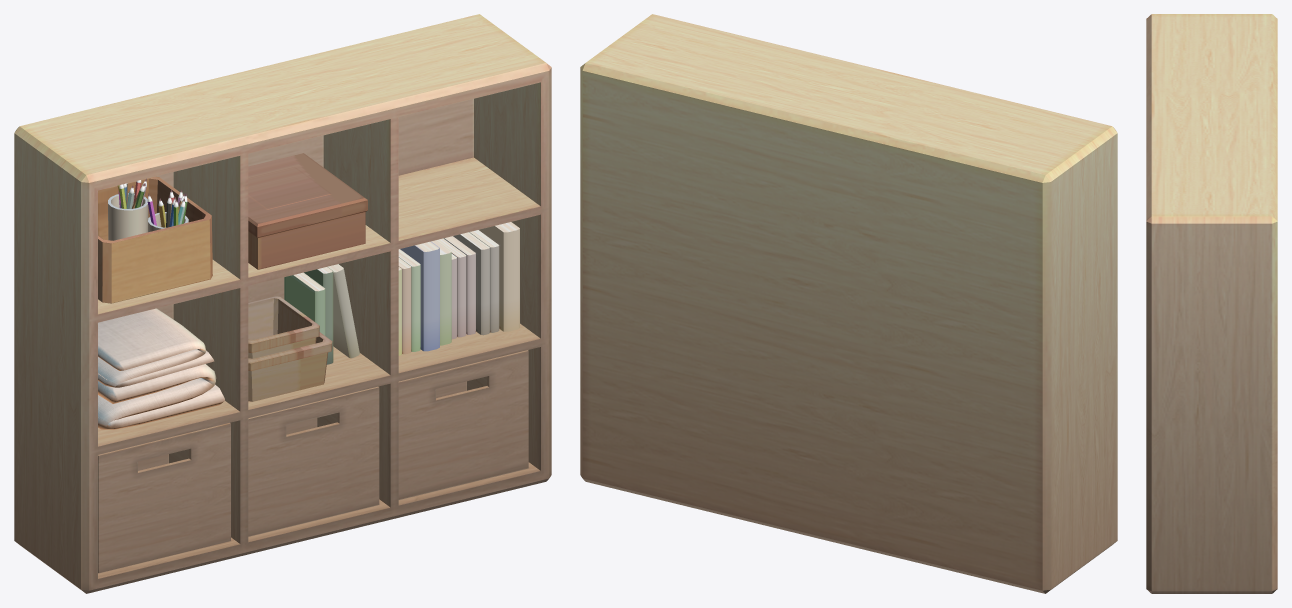
The model's file is shelf_3x3_prop.fbx.
3 views of the same model, side by side, from view 1: azimuth 30°, elevation 25°; view 2: azimuth 150°, elevation 25°; view 3: azimuth 270°, elevation 25° (orthographic). The views are drawn at different scales.
Parts seen in each view (by area): view 1: shelf_3x3; view 2: shelf_3x3; view 3: shelf_3x3.
Part boxes in pixels (x1,y1,x2,y2): shelf_3x3: [14, 14, 551, 593]; shelf_3x3: [580, 14, 1117, 593]; shelf_3x3: [1146, 14, 1277, 593].
Size of the model in its own units: 3.72 by 3.17 by 1.
